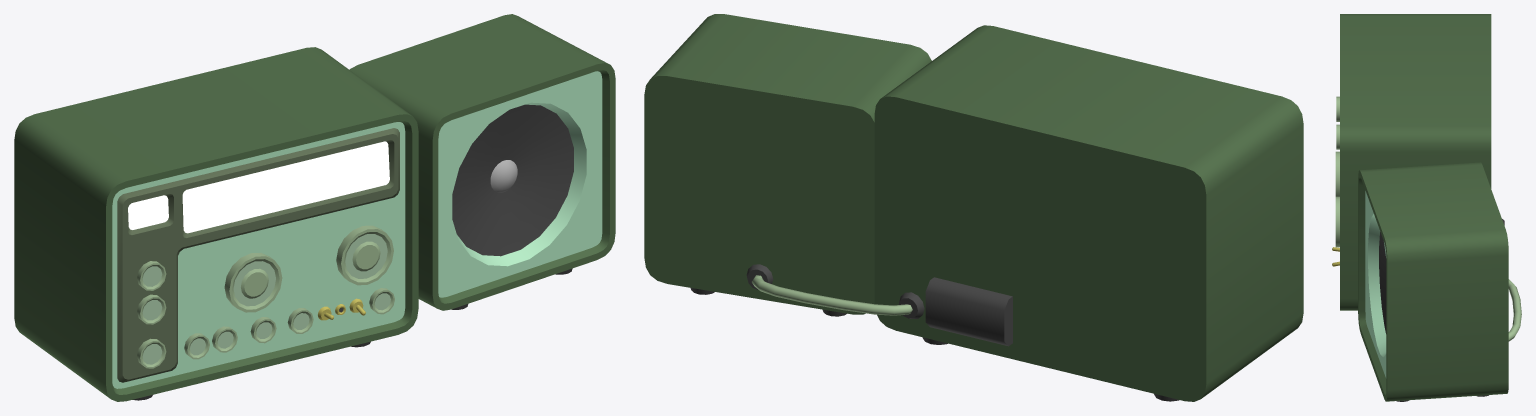
3 renders of one model, left to right at view 1: azimuth 30°, elevation 25°; view 2: azimuth 150°, elevation 25°; view 3: azimuth 270°, elevation 25°, orthographic. The views are drawn at different scales.
Visible parts, largest first — view 1: radio_00_02 - Default_0, radio_00_09 - Default_0, radio_00_08 - Default_0, radio_00_03 - Default_0, radio_00_07 - Default_0, radio_00_04 - Default_0, radio_00_05 - Default_0, radio_00_11 - Default_0; view 2: radio_00_02 - Default_0, radio_00_03 - Default_0, radio_00_04 - Default_0; view 3: radio_00_02 - Default_0, radio_00_09 - Default_0, radio_00_04 - Default_0, radio_00_03 - Default_0.
Boxes of the visible parts, x1,y1,x2,y2 form: radio_00_02 - Default_0: (14, 14, 615, 401); radio_00_09 - Default_0: (112, 71, 602, 388); radio_00_08 - Default_0: (117, 128, 399, 382); radio_00_03 - Default_0: (132, 104, 573, 400); radio_00_07 - Default_0: (128, 141, 389, 233); radio_00_04 - Default_0: (137, 225, 394, 368); radio_00_05 - Default_0: (142, 234, 390, 364); radio_00_11 - Default_0: (490, 160, 517, 192); radio_00_02 - Default_0: (644, 14, 1303, 401); radio_00_03 - Default_0: (690, 264, 1179, 401); radio_00_04 - Default_0: (752, 275, 912, 315); radio_00_02 - Default_0: (1340, 14, 1508, 401); radio_00_09 - Default_0: (1365, 191, 1386, 378); radio_00_04 - Default_0: (1335, 96, 1521, 341); radio_00_03 - Default_0: (1379, 219, 1504, 401).
Size of the model in its own units: 34.04 by 13.95 by 12.56.
